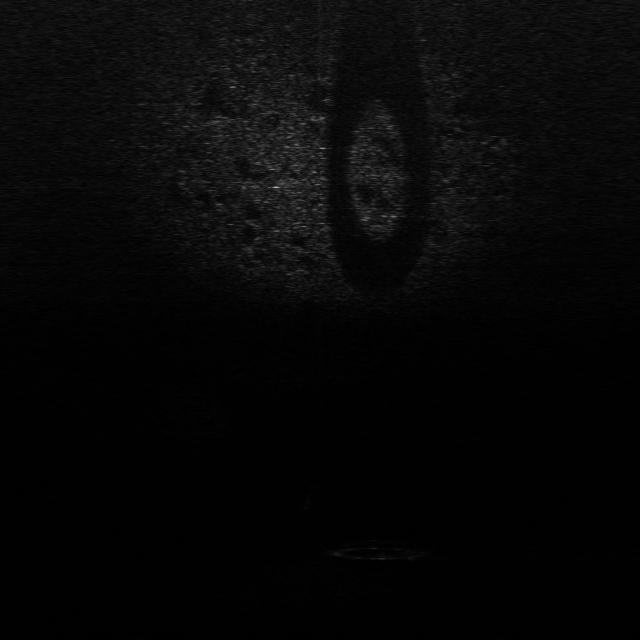tyre: (328, 537, 433, 565)
